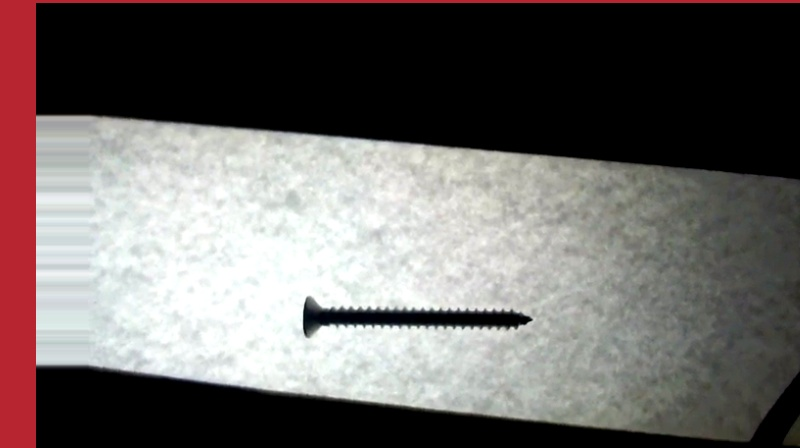S002: (297, 291, 534, 341)
